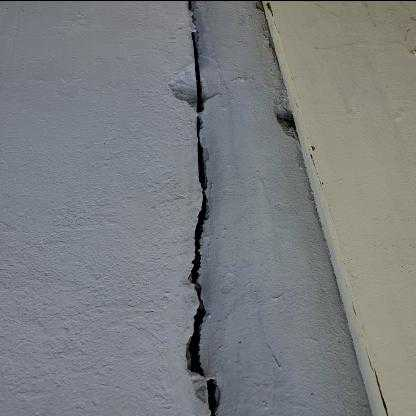crack: (179, 0, 220, 416)
